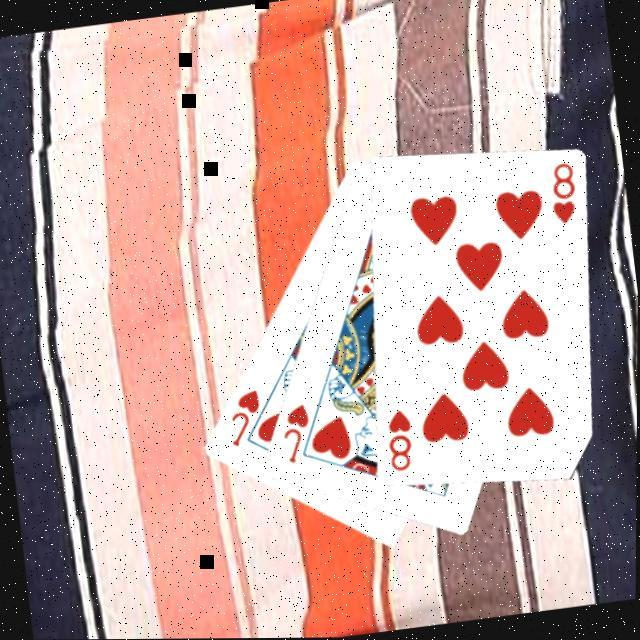8H: (382, 407, 422, 478), (544, 161, 584, 230)
JH: (222, 387, 270, 452), (276, 402, 318, 470)
